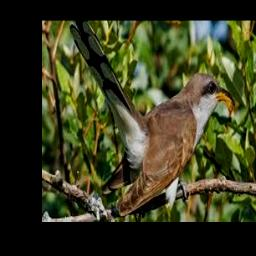Cuckoo: (70, 20, 236, 215)
